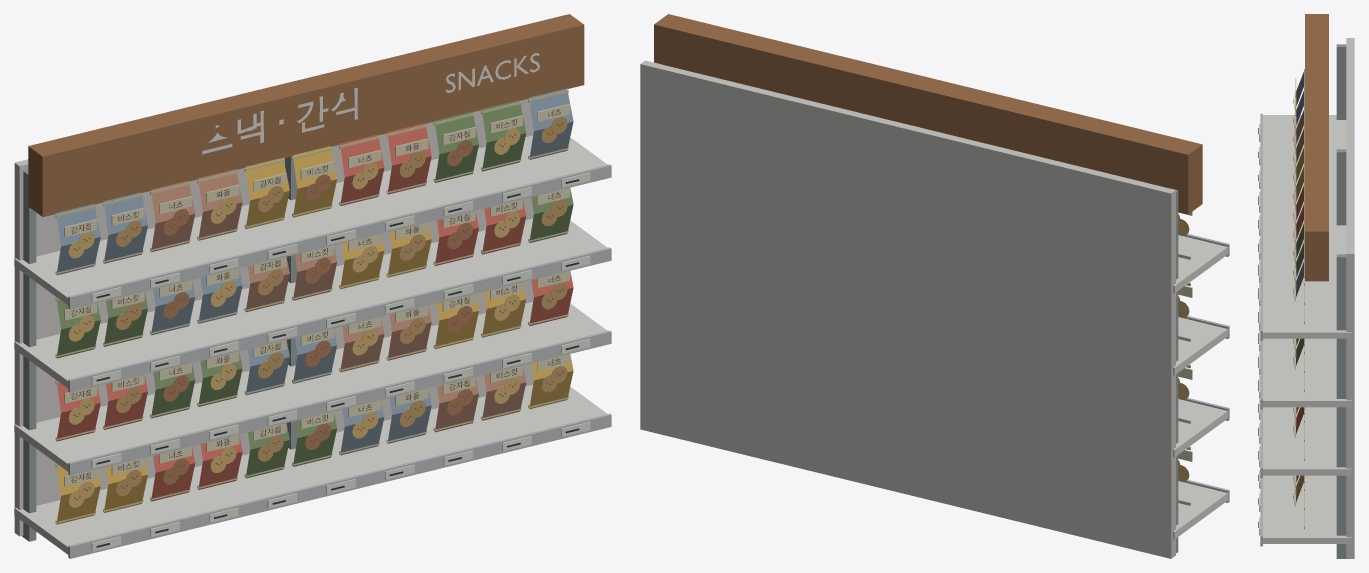
File: Snacks.glb
3 renders of one model, left to right at view 1: azimuth 30°, elevation 25°; view 2: azimuth 150°, elevation 25°; view 3: azimuth 270°, elevation 25°, orthographic. The views are drawn at different scales.
Visible parts, largest first — view 1: Snacks; view 2: Snacks; view 3: Snacks.
Boxes of the visible parts, box(x1,y1,x2,y2) form: Snacks: box(14, 14, 611, 558); Snacks: box(640, 14, 1229, 558); Snacks: box(1258, 14, 1354, 558).
Size of the model in its own units: 3 by 2.12 by 0.562.
